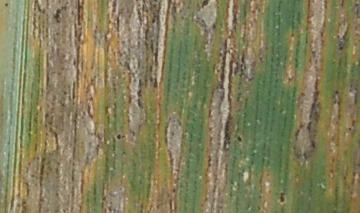tarspot: (234, 134, 243, 143), (114, 133, 124, 141)
